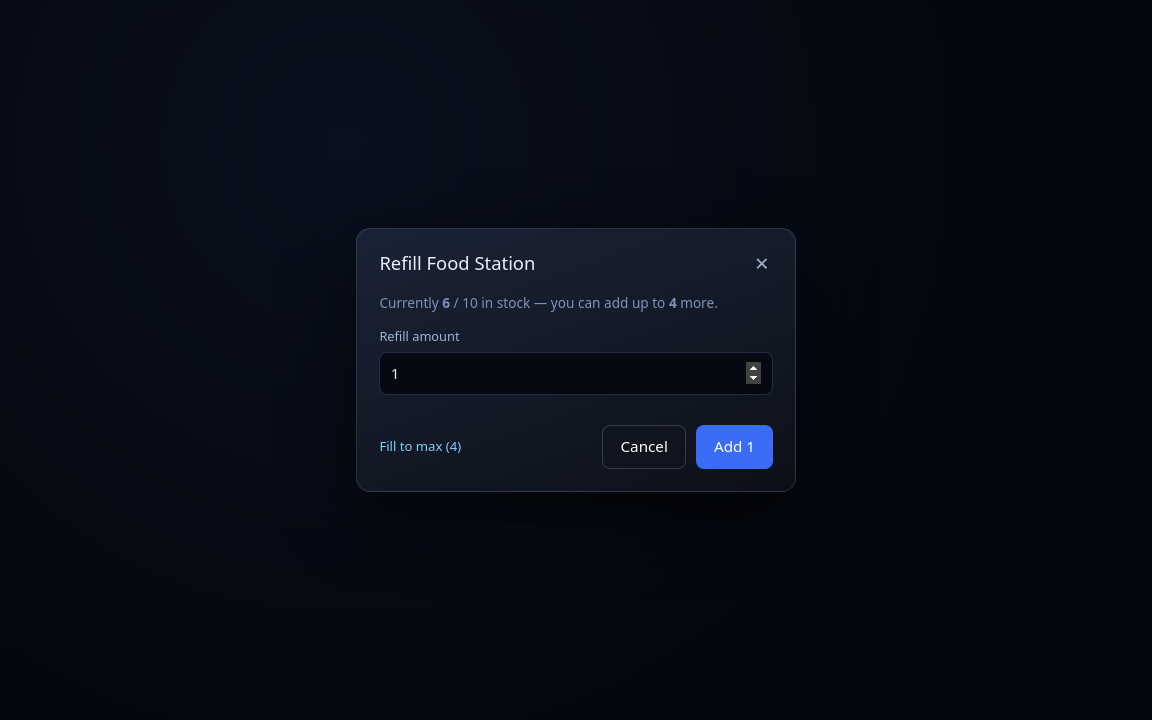
Test case: RefillModal amount clamping › clamps an amount above the available room down to the room
This screenshot has width=1152, height=720.
Replace the text in the number field labelled "Refill amount" with "999" at (576, 373), box [379, 352, 773, 395]
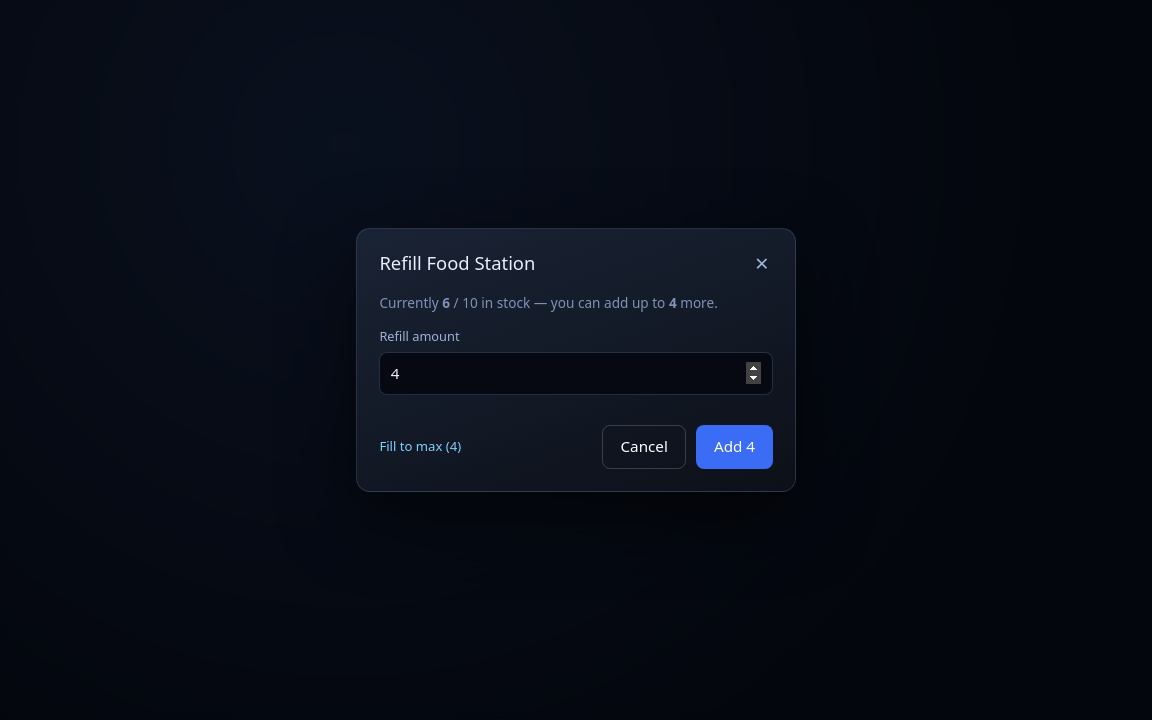
Check: the number field labelled "Refill amount" holds "4", box [379, 352, 773, 395]
